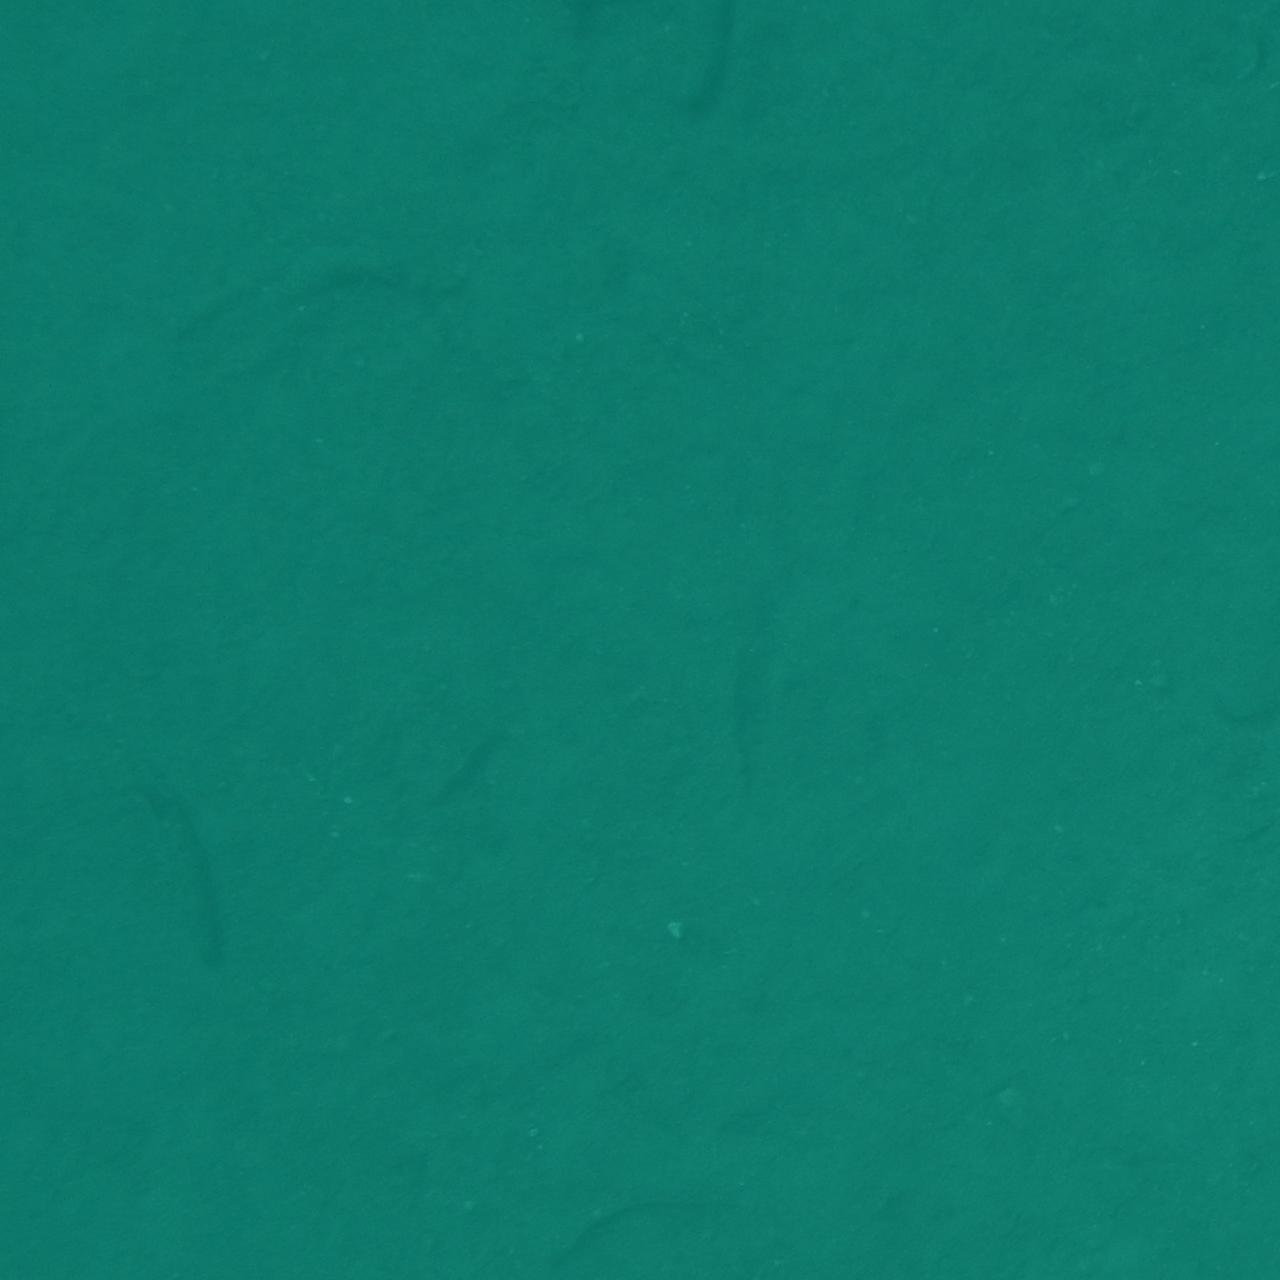Holothuria tubulosa: (0, 272, 147, 407), (149, 767, 229, 974), (681, 0, 935, 64), (0, 0, 142, 110), (654, 0, 791, 113), (116, 0, 375, 53), (1171, 662, 1280, 782), (0, 0, 123, 98), (821, 0, 994, 69), (279, 259, 496, 312), (619, 0, 845, 50), (1162, 1178, 1280, 1272), (523, 0, 612, 120), (1191, 1167, 1280, 1280), (1184, 1182, 1280, 1280), (1175, 0, 1280, 86), (0, 1182, 91, 1280), (1212, 0, 1280, 130), (1191, 387, 1280, 468), (1214, 1173, 1280, 1280), (0, 1218, 109, 1280), (0, 1232, 105, 1280), (0, 0, 47, 98)
